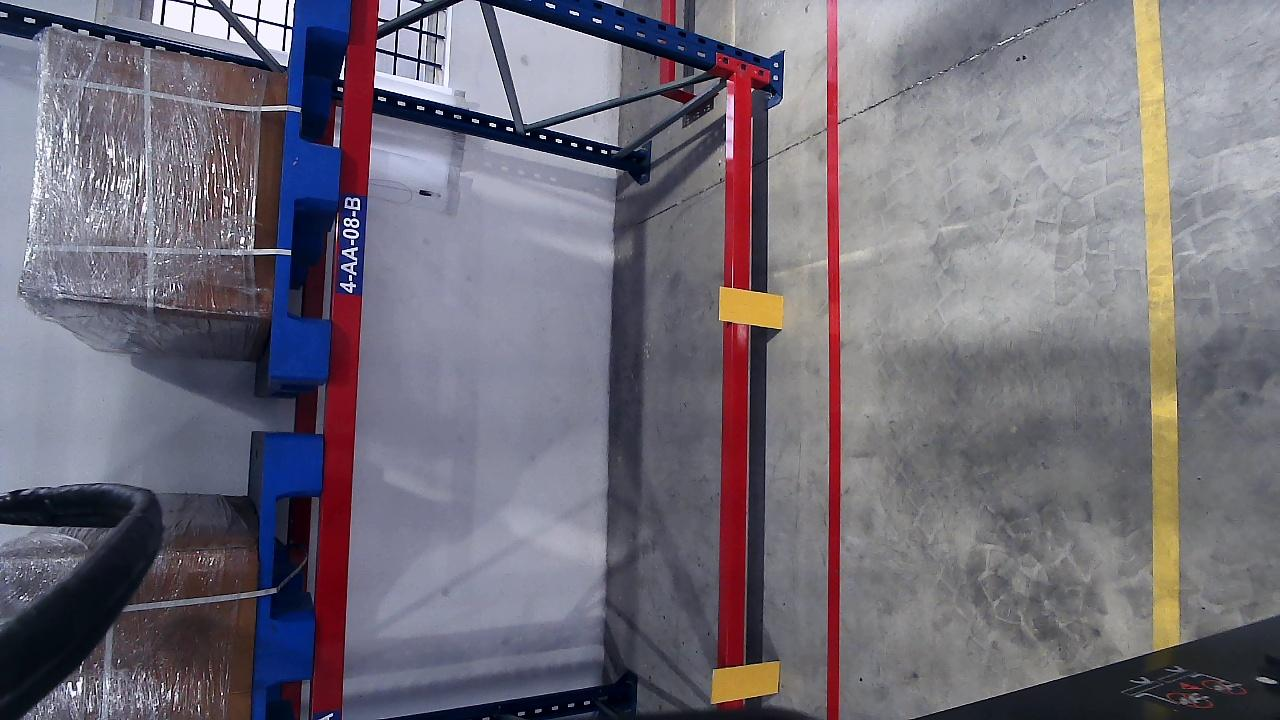h_rack: (339, 14, 376, 683), (725, 77, 759, 638)
orange_strip: (711, 660, 780, 702), (719, 285, 784, 328)
red_line: (822, 14, 844, 720)
small_pallet: (272, 0, 351, 375), (255, 433, 333, 719)
yellow_line: (1135, 0, 1181, 600)
